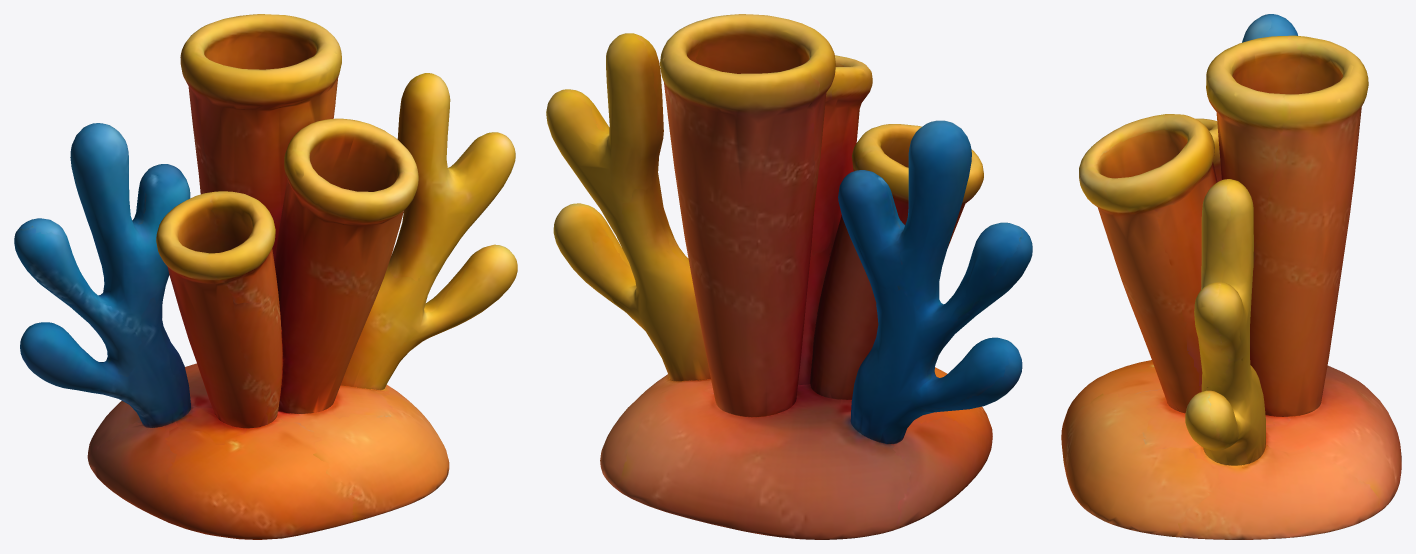
Rendered from coral_pbr.glb.
The picture shows the model from 3 angles, left to right: view 1: azimuth 30°, elevation 25°; view 2: azimuth 150°, elevation 25°; view 3: azimuth 270°, elevation 25°; orthographic projection. The views are drawn at different scales.
Parts seen in each view (by area): view 1: model; view 2: model; view 3: model.
Part boxes in pixels (x1,y1,x2,y2): model: (14, 14, 517, 539); model: (546, 14, 1032, 539); model: (1061, 14, 1401, 539).
Size of the model in its own units: 1.81 by 1.47 by 1.11.
1 material, 1 textured.
